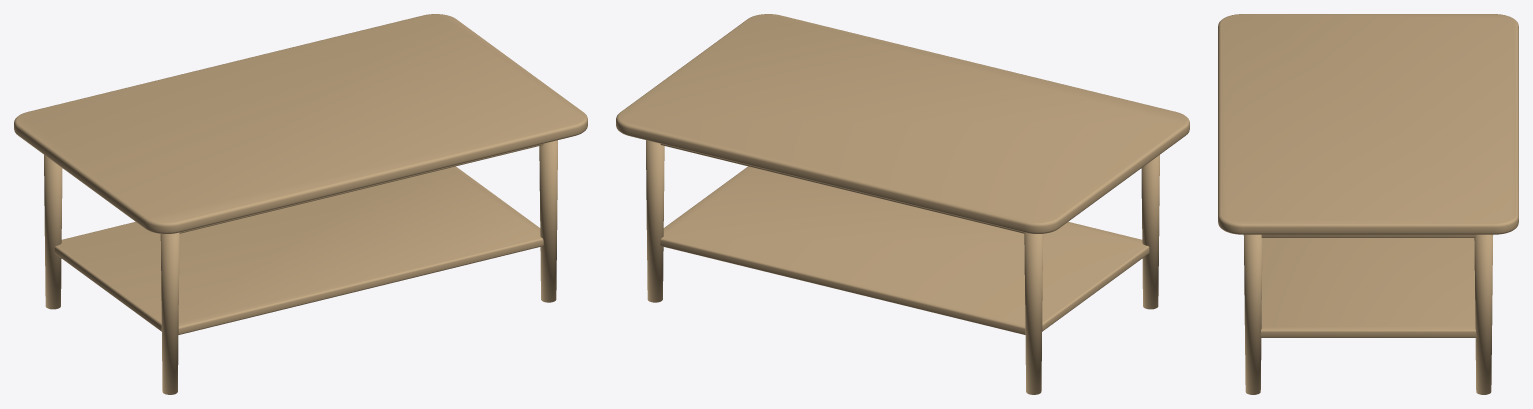
The model's file is coffee.glb.
3 renders of one model, left to right at view 1: azimuth 30°, elevation 25°; view 2: azimuth 150°, elevation 25°; view 3: azimuth 270°, elevation 25°, orthographic.
Parts seen in each view (by area): view 1: top, shelf, leg0, leg1, leg2, rail1; view 2: top, shelf, leg2, leg3, leg0, rail0; view 3: top, shelf, leg1, leg3, rail_s1.
Boxes of the visible parts, box(x1,y1,x2,y2) form: top: box(14, 14, 587, 233); shelf: box(54, 166, 543, 334); leg0: box(160, 232, 179, 394); leg1: box(539, 140, 557, 302); leg2: box(44, 155, 62, 309); rail1: box(179, 144, 543, 233); top: box(616, 14, 1189, 233); shelf: box(660, 166, 1149, 334); leg2: box(1024, 232, 1043, 394); leg3: box(646, 140, 664, 302); leg0: box(1141, 155, 1159, 309); rail0: box(660, 144, 1024, 233); top: box(1218, 14, 1518, 234); shelf: box(1260, 238, 1476, 337); leg1: box(1243, 234, 1262, 394); leg3: box(1474, 234, 1493, 394); rail_s1: box(1261, 234, 1475, 237).
Bounding box in the file's own units: 1 × 0.4 × 0.6.
